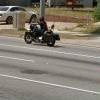Motorcycle: (16, 16, 67, 49)
